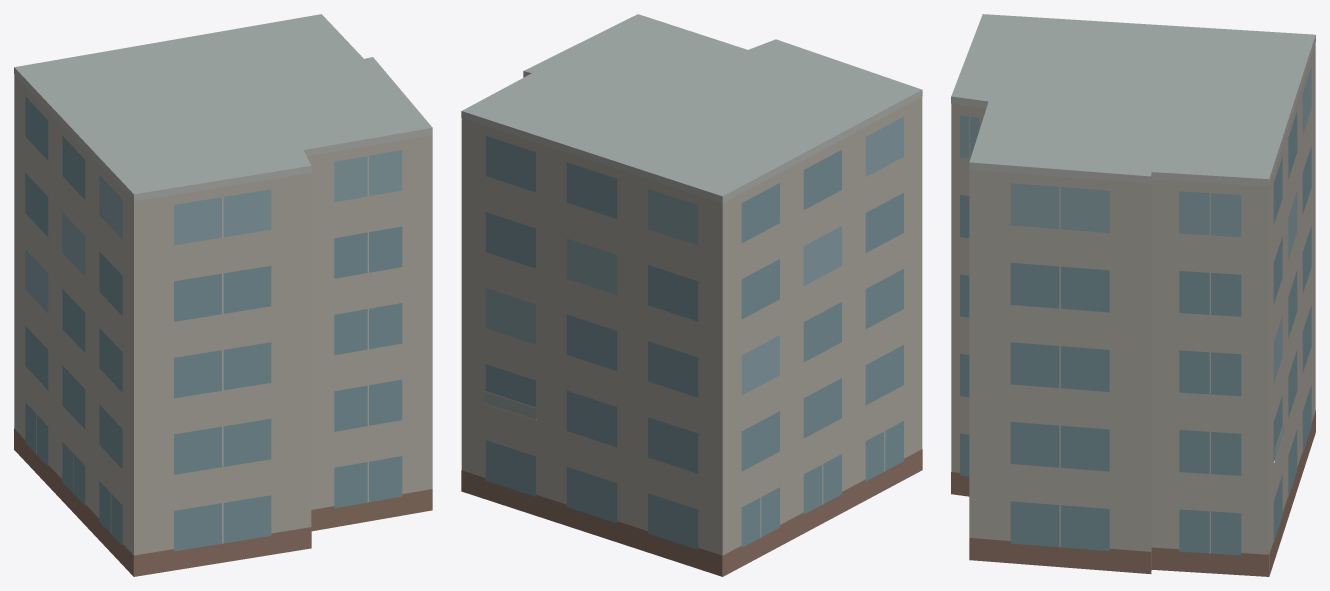
File: survey-upis-32839341.glb
3 views of the same model, side by side, from view 1: azimuth 30°, elevation 25°; view 2: azimuth 150°, elevation 25°; view 3: azimuth 270°, elevation 25° (orthographic). The views are drawn at different scales.
Parts seen in each view (by area): view 1: survey-upis-32839341.tmp; view 2: survey-upis-32839341.tmp; view 3: survey-upis-32839341.tmp.
Boxes of the visible parts, x1,y1,x2,y2 form: survey-upis-32839341.tmp: (14,14,432,576); survey-upis-32839341.tmp: (461,14,922,576); survey-upis-32839341.tmp: (951,14,1315,576).
Size of the model in its own units: 11.95 by 13.4 by 11.14.
